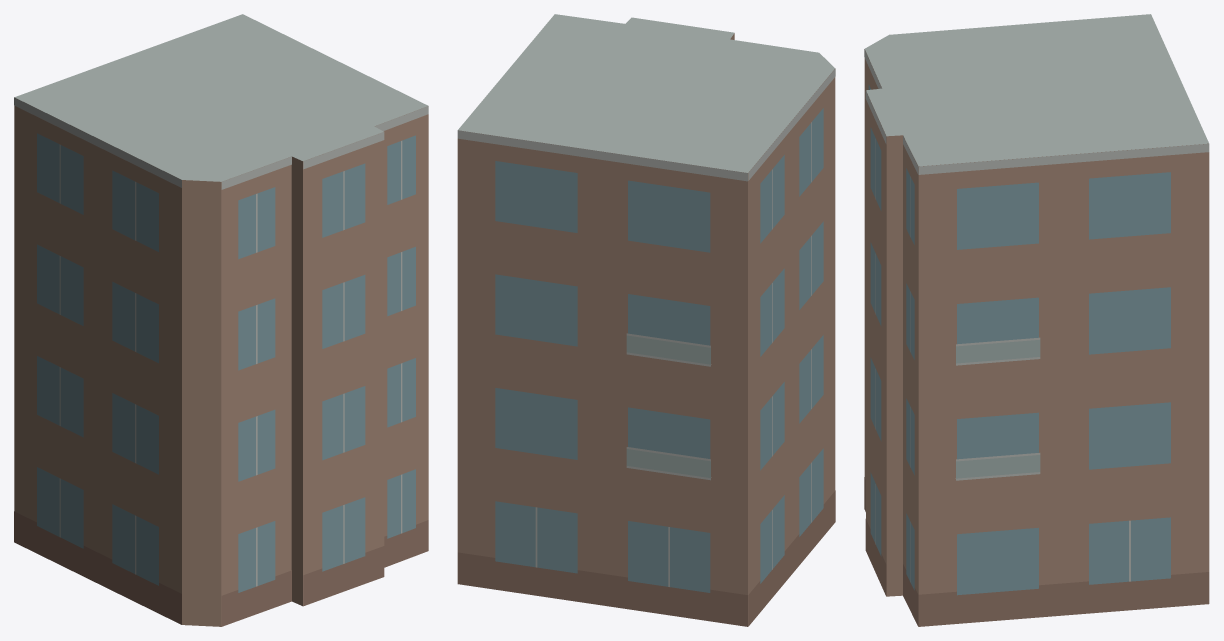
Rendered from survey-upis-32804040.glb.
3 renders of one model, left to right at view 1: azimuth 30°, elevation 25°; view 2: azimuth 150°, elevation 25°; view 3: azimuth 270°, elevation 25°, orthographic. The views are drawn at different scales.
Visible parts, largest first — view 1: survey-upis-32804040.tmp; view 2: survey-upis-32804040.tmp; view 3: survey-upis-32804040.tmp.
Boxes of the visible parts, box(x1,y1,x2,y2) form: survey-upis-32804040.tmp: box(14, 14, 428, 626); survey-upis-32804040.tmp: box(457, 14, 835, 626); survey-upis-32804040.tmp: box(864, 14, 1209, 626).
Bounding box in the file's own units: 9.38 × 13.2 × 8.97.
